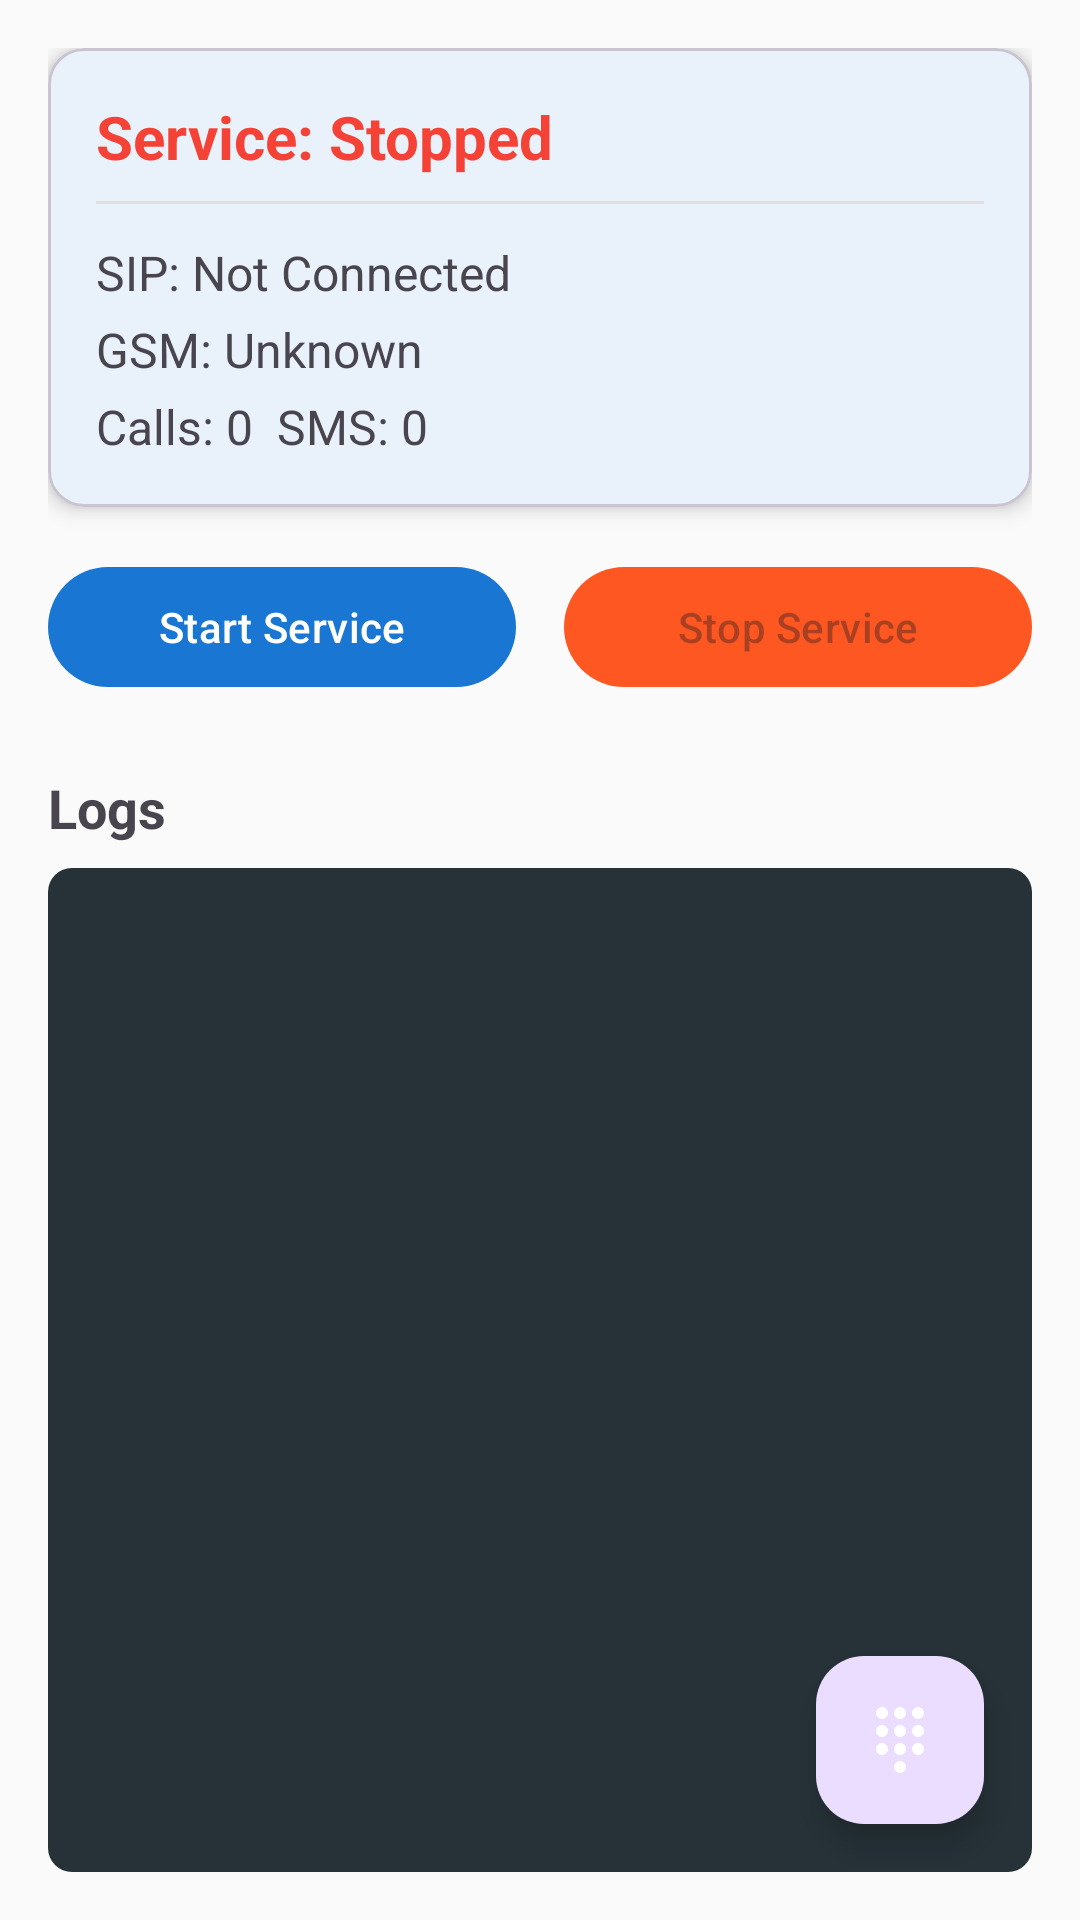

Icons on this 1080 × 1920 Android screen, each with the point to tap as (x,y):
USSD: (900,1740)
